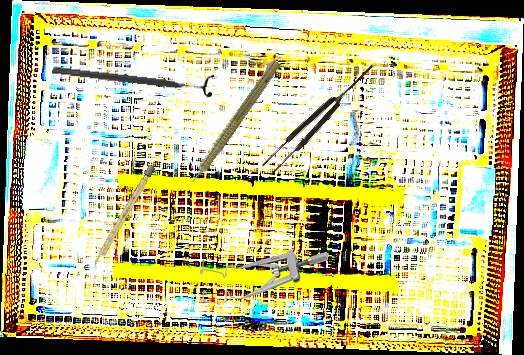Fixation Ring: (51, 57, 214, 100)
Handpiece: (178, 55, 284, 195)
Scalpel Handle: (91, 164, 156, 269)
Speculum: (199, 247, 329, 307)
Tissue Forceps: (259, 59, 381, 177)
